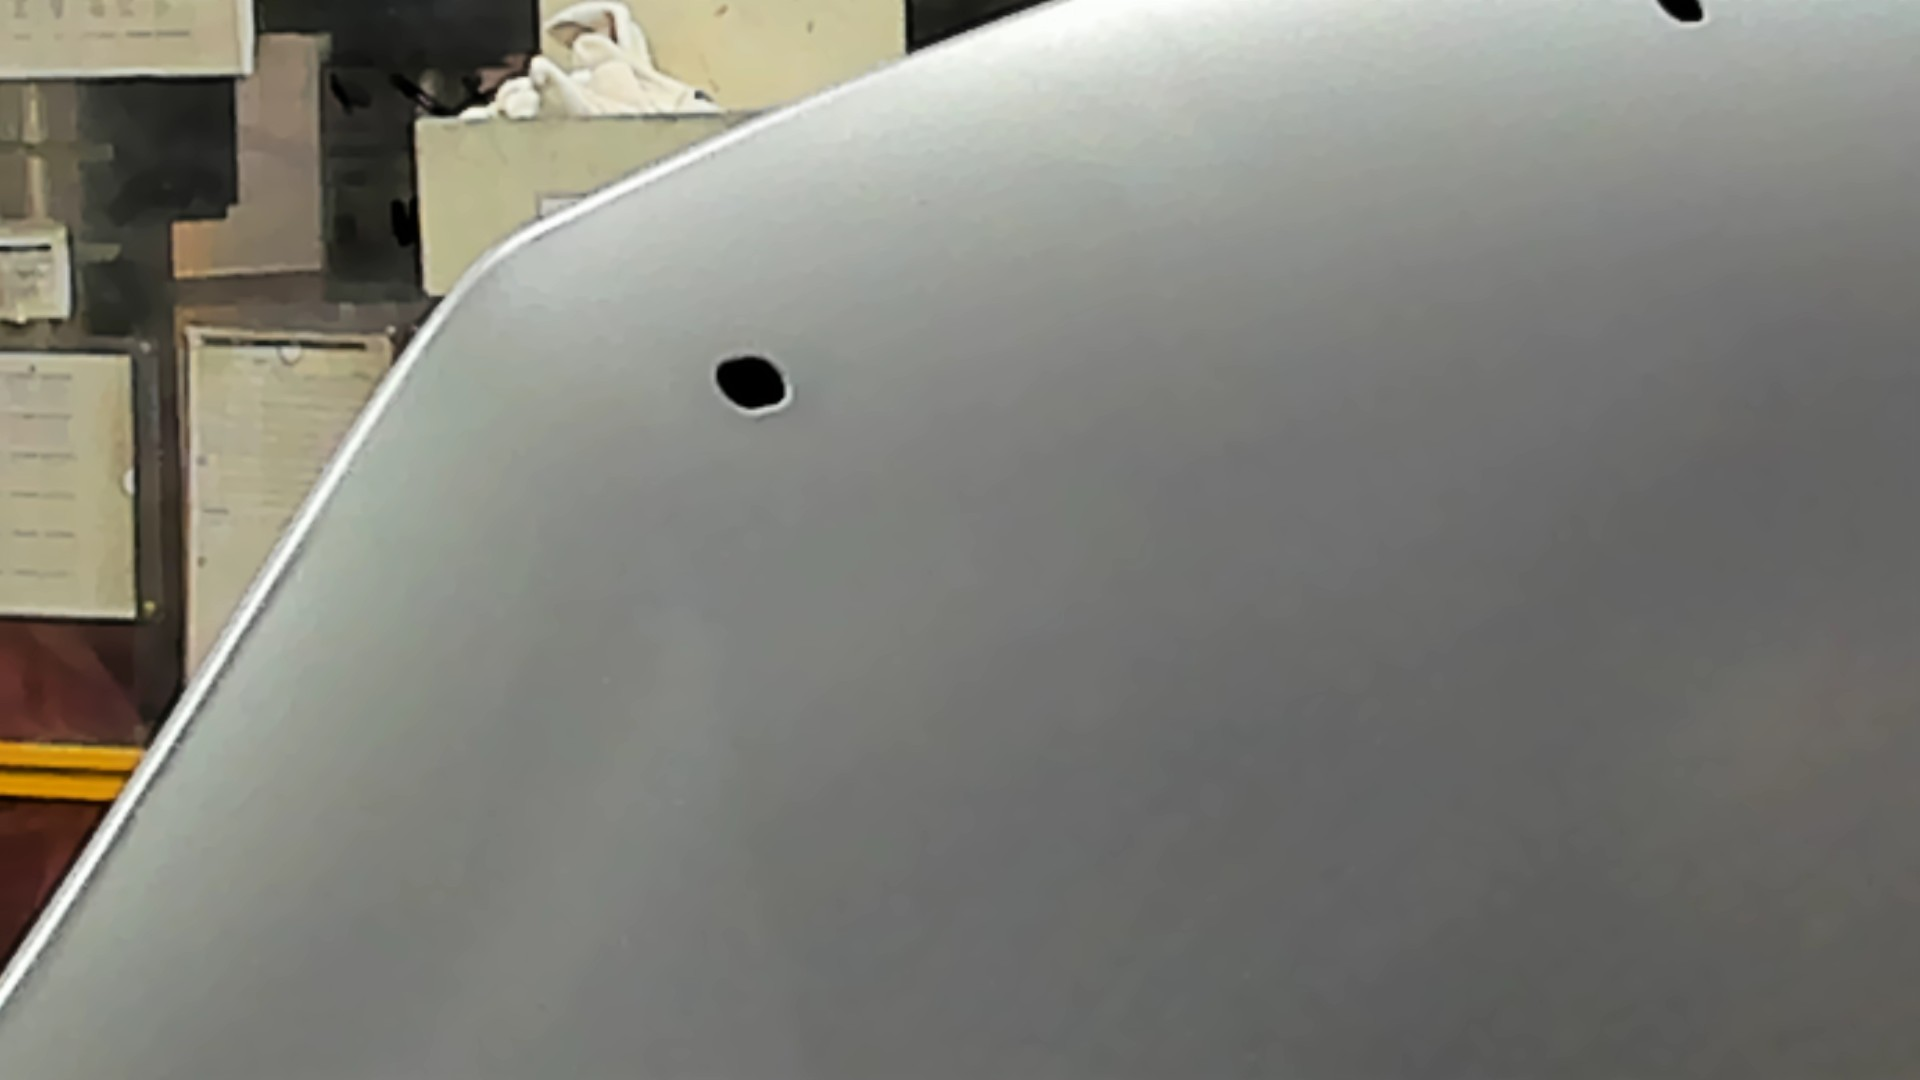amorfo: (707, 345, 793, 425), (1655, 1, 1712, 26)
